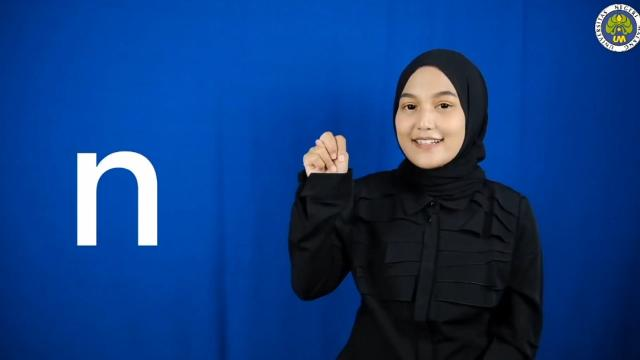N: (300, 130, 352, 178)
